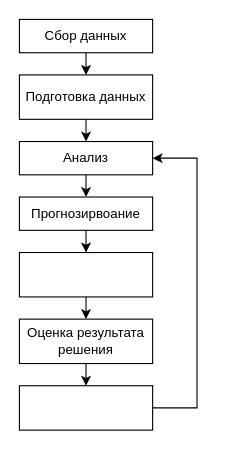
The diagram is 225 pixels wide and 450 high, and some of its shapes have lost their labels. Each missing label, with the box of its shape:
Обратная связь: (18, 385, 153, 430)
Управленческое решение: (18, 251, 153, 297)
